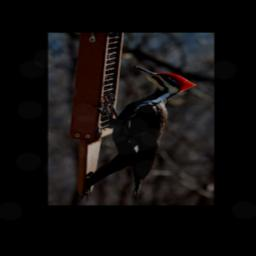Woodpecker: (78, 64, 198, 202)
